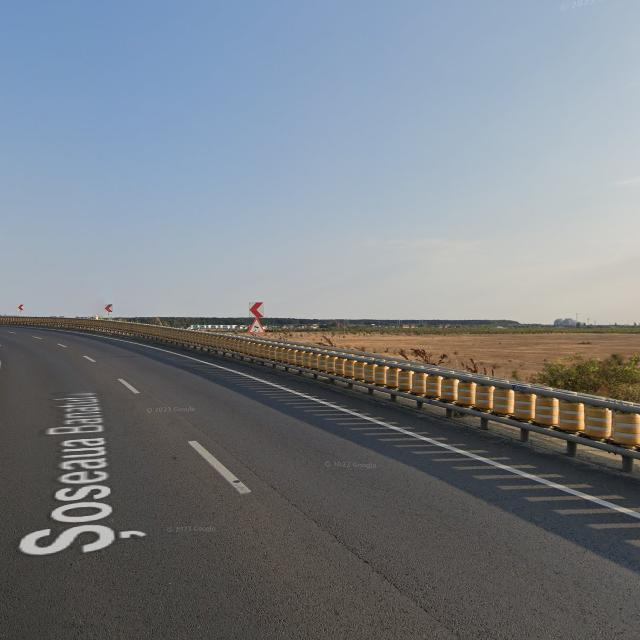warn_slippery_road: (247, 317, 266, 334)
